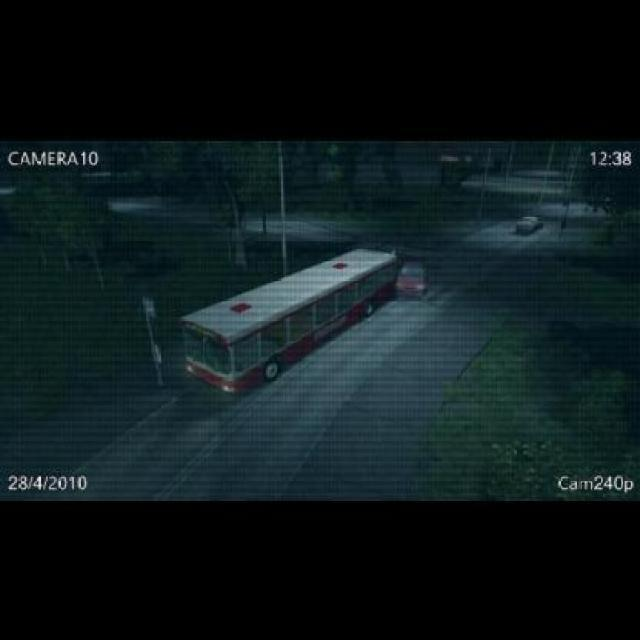accident: (372, 252, 432, 301)
